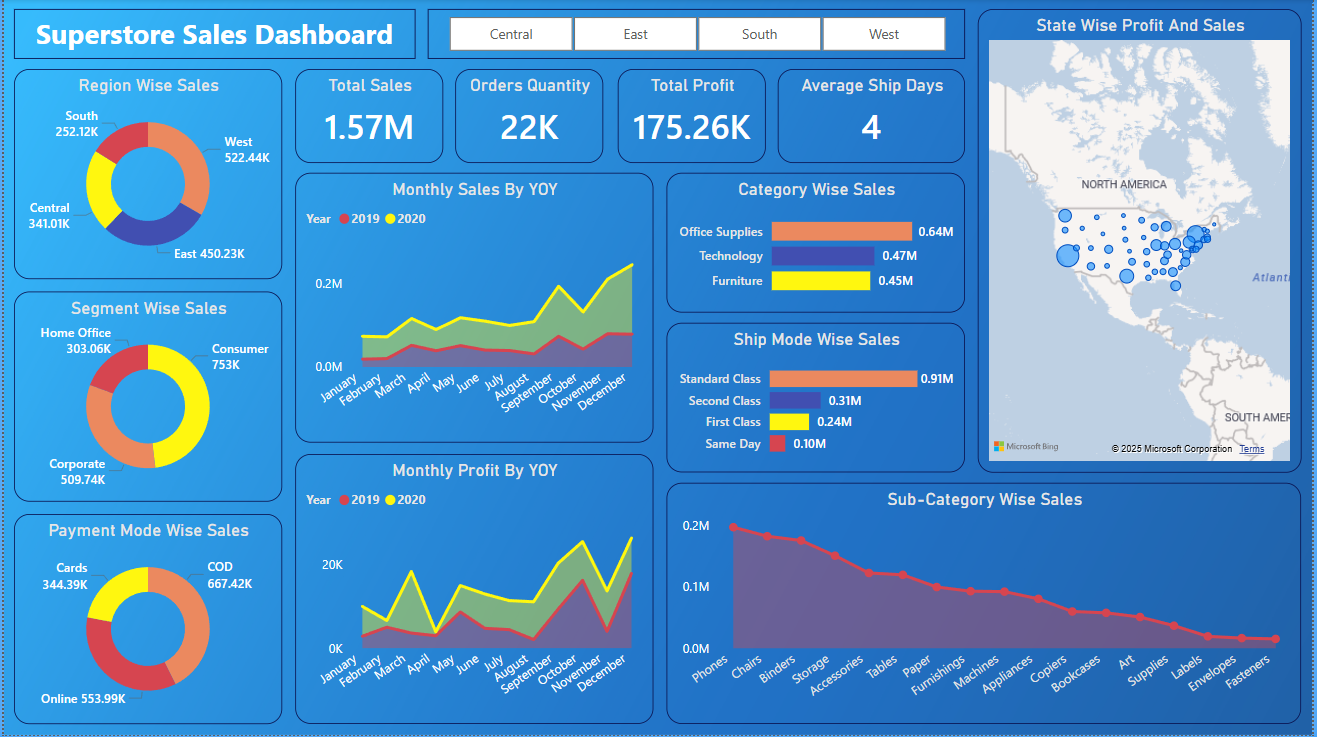

This screenshot's page, from the dashboard's own definition file:
{"tool":"powerbi","page":{"name":"Page 1","canvas":[1280,720],"ordinal":0},"visuals":[{"type":"card","title":"Total Sales","fields":{"Values":["Sum(SuperStore_Sales_Dataset.Sales)"]},"box":[284.9,68.5,145,92],"z":0},{"type":"card","title":"Total Profit","fields":{"Values":["Sum(SuperStore_Sales_Dataset.Profit)"]},"box":[601,68.5,145,92],"z":1000},{"type":"card","title":"Orders Quantity","fields":{"Values":["Sum(SuperStore_Sales_Dataset.Quantity)"]},"box":[441,68.5,145,92],"z":2000},{"type":"barChart","title":"Category Wise Sales","fields":{"Category":["SuperStore_Sales_Dataset.Category"],"Y":["Sum(SuperStore_Sales_Dataset.Sales)"]},"box":[648.1,170,292.3,137],"z":3000},{"type":"donutChart","title":"Region Wise Sales","fields":{"Category":["SuperStore_Sales_Dataset.Region"],"Y":["Sum(SuperStore_Sales_Dataset.Sales)"]},"box":[9.8,68.5,262,205.4],"z":4000},{"type":"donutChart","title":"Segment Wise Sales","fields":{"Category":["SuperStore_Sales_Dataset.Segment"],"Y":["Sum(SuperStore_Sales_Dataset.Sales)"]},"box":[9.8,286,262,205.4],"z":5000},{"type":"donutChart","title":"Payment Mode Wise Sales","fields":{"Category":["SuperStore_Sales_Dataset.Payment Mode"],"Y":["Sum(SuperStore_Sales_Dataset.Sales)"]},"box":[9.8,503.8,262,205.4],"z":6000},{"type":"barChart","title":"Ship Mode Wise Sales","fields":{"Category":["SuperStore_Sales_Dataset.Ship Mode"],"Y":["Sum(SuperStore_Sales_Dataset.Sales)"]},"box":[648.1,317,292.3,146.7],"z":7000},{"type":"card","title":"Average Ship Days","fields":{"Values":["Avg(SuperStore_Sales_Dataset.Average Shipment)"]},"box":[756.9,68.5,183.4,92],"z":8000},{"type":"stackedAreaChart","title":"Monthly Profit By YOY","fields":{"Category":["SuperStore_Sales_Dataset.Order Date.Variation.Date Hierarchy.Month"],"Y":["Sum(SuperStore_Sales_Dataset.Profit)"],"Series":["SuperStore_Sales_Dataset.Order Date.Variation.Date Hierarchy.Year"]},"box":[285,445,350,264],"z":9000},{"type":"stackedAreaChart","title":"Monthly Sales By YOY","fields":{"Category":["SuperStore_Sales_Dataset.Order Date.Variation.Date Hierarchy.Month"],"Y":["Sum(SuperStore_Sales_Dataset.Sales)"],"Series":["SuperStore_Sales_Dataset.Order Date.Variation.Date Hierarchy.Year"]},"box":[285,170,350,264.1],"z":10000},{"type":"lineChart","title":"Sub-Category Wise Sales","fields":{"Category":["SuperStore_Sales_Dataset.Sub-Category"],"Y":["Sum(SuperStore_Sales_Dataset.Sales)"]},"box":[648.1,473.2,621.2,236],"z":11000},{"type":"map","title":"State Wise Profit And Sales","fields":{"Category":["SuperStore_Sales_Dataset.State"],"Size":["Sum(SuperStore_Sales_Dataset.Sales)"]},"box":[952.6,9.8,316.7,453.7],"z":12000},{"type":"slicer","fields":{"Values":["SuperStore_Sales_Dataset.Region"]},"box":[414.5,9.8,525.8,48.9],"z":13000},{"type":"textbox","box":[9.8,9.8,392.5,48.9],"z":14000}]}

Visuals, with their boxes in screenshot pixels (x1, y1, x2, y2), scaled from the page's 1280x720 canvas onto the 1317x737 screenshot:
"Total Sales" card: (293, 70, 442, 164)
"Total Profit" card: (618, 70, 768, 164)
"Orders Quantity" card: (454, 70, 603, 164)
"Category Wise Sales" barChart: (667, 174, 968, 314)
"Region Wise Sales" donutChart: (10, 70, 280, 280)
"Segment Wise Sales" donutChart: (10, 293, 280, 503)
"Payment Mode Wise Sales" donutChart: (10, 516, 280, 726)
"Ship Mode Wise Sales" barChart: (667, 324, 968, 475)
"Average Ship Days" card: (779, 70, 967, 164)
"Monthly Profit By YOY" stackedAreaChart: (293, 456, 653, 726)
"Monthly Sales By YOY" stackedAreaChart: (293, 174, 653, 444)
"Sub-Category Wise Sales" lineChart: (667, 484, 1306, 726)
"State Wise Profit And Sales" map: (980, 10, 1306, 474)
slicer - SuperStore_Sales_Dataset.Region: (426, 10, 967, 60)
textbox: (10, 10, 414, 60)
